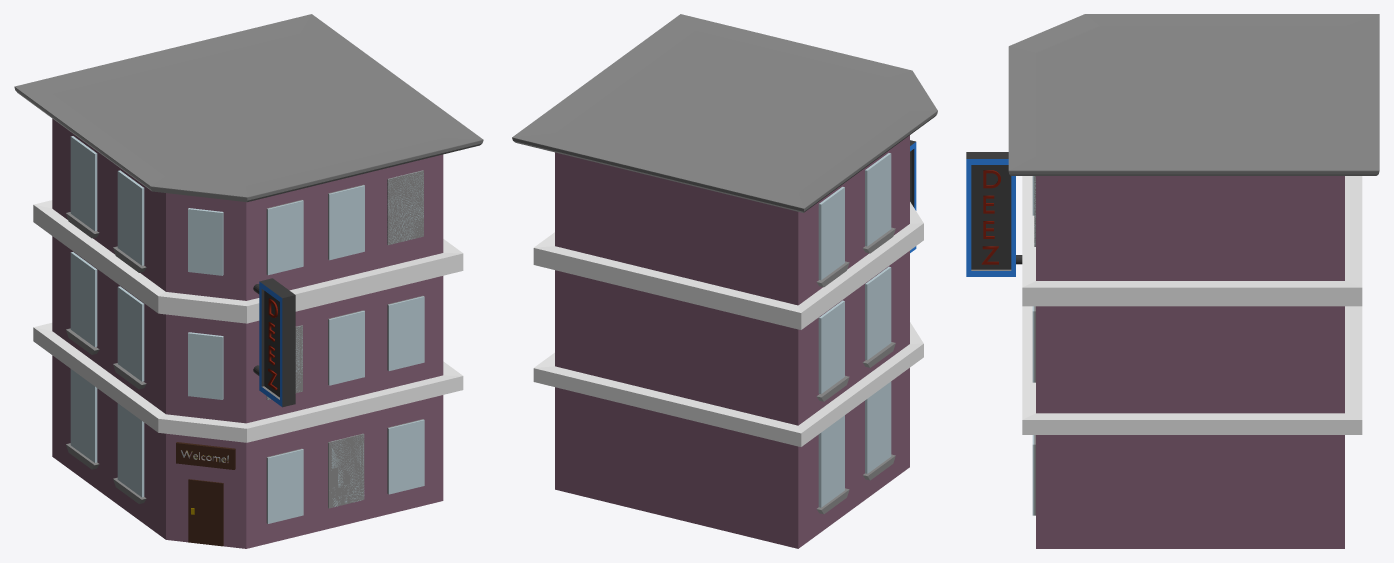
Rendered from cornerBuilding1.fbx.
3 renders of one model, left to right at view 1: azimuth 30°, elevation 25°; view 2: azimuth 150°, elevation 25°; view 3: azimuth 270°, elevation 25°, orthographic. The views are drawn at different scales.
Parts seen in each view (by area): view 1: Cube; view 2: Cube; view 3: Cube.
Boxes of the visible parts, <box> form: Cube: <box>14,14,483,548</box>; Cube: <box>512,14,937,548</box>; Cube: <box>966,14,1379,548</box>.
Size of the model in its own units: 1200 by 1402 by 1336.
